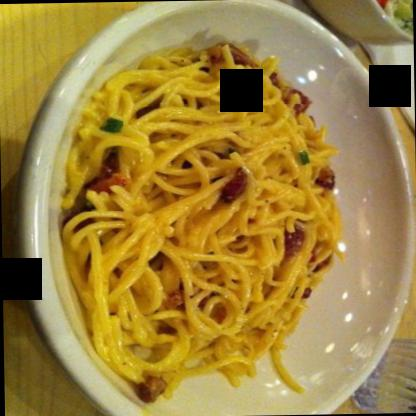pasta: (44, 36, 346, 386)
